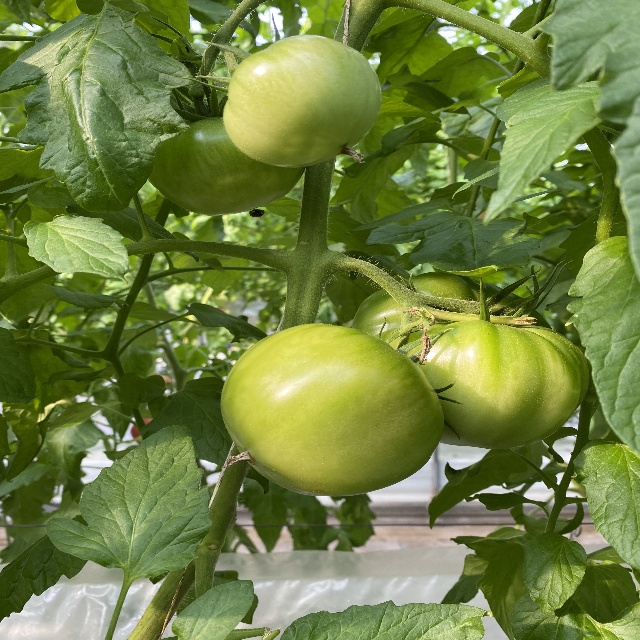b_green: (351, 271, 589, 449), (219, 322, 445, 497), (222, 34, 382, 168), (145, 116, 307, 215)
